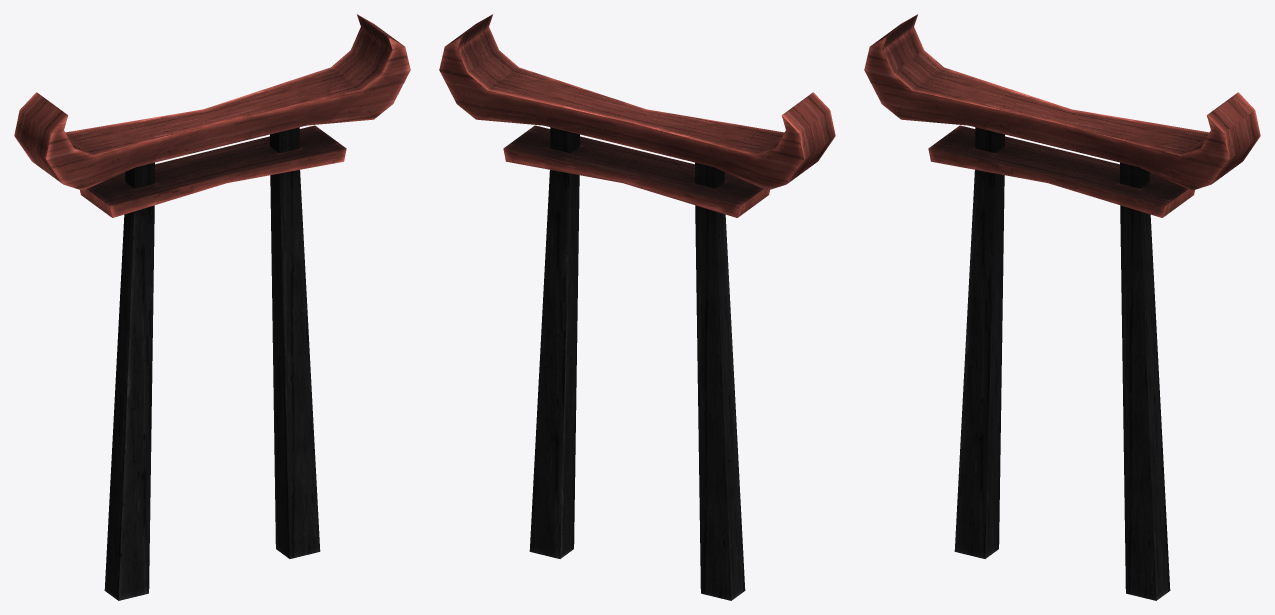
File: Gate.FBX
3 renders of one model, left to right at view 1: azimuth 30°, elevation 25°; view 2: azimuth 150°, elevation 25°; view 3: azimuth 330°, elevation 25°, orthographic.
Visible parts, largest first — view 1: Line002; view 2: Line002; view 3: Line002.
Boxes of the visible parts, left/top/right/bottom form: Line002: left=14, top=14, right=410, bottom=600; Line002: left=439, top=14, right=835, bottom=600; Line002: left=864, top=14, right=1260, bottom=600.
Bounding box in the file's own units: 200 × 266 × 30.05.
1 material, 1 textured.
